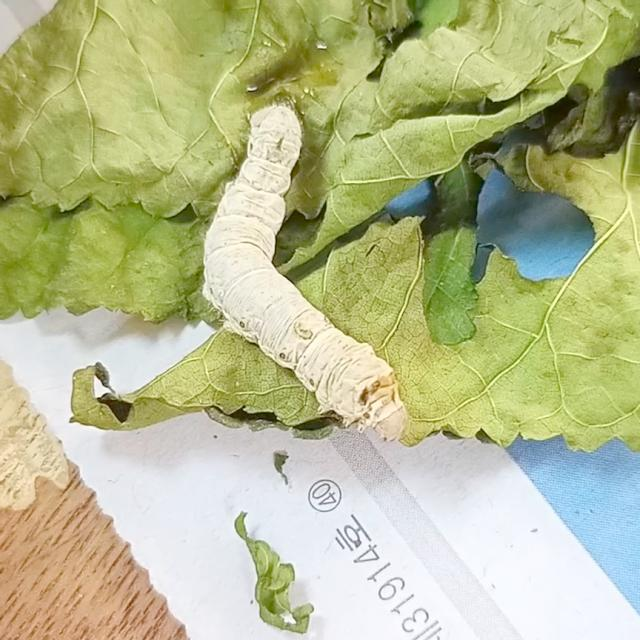Grasserie: (181, 39, 436, 546)
